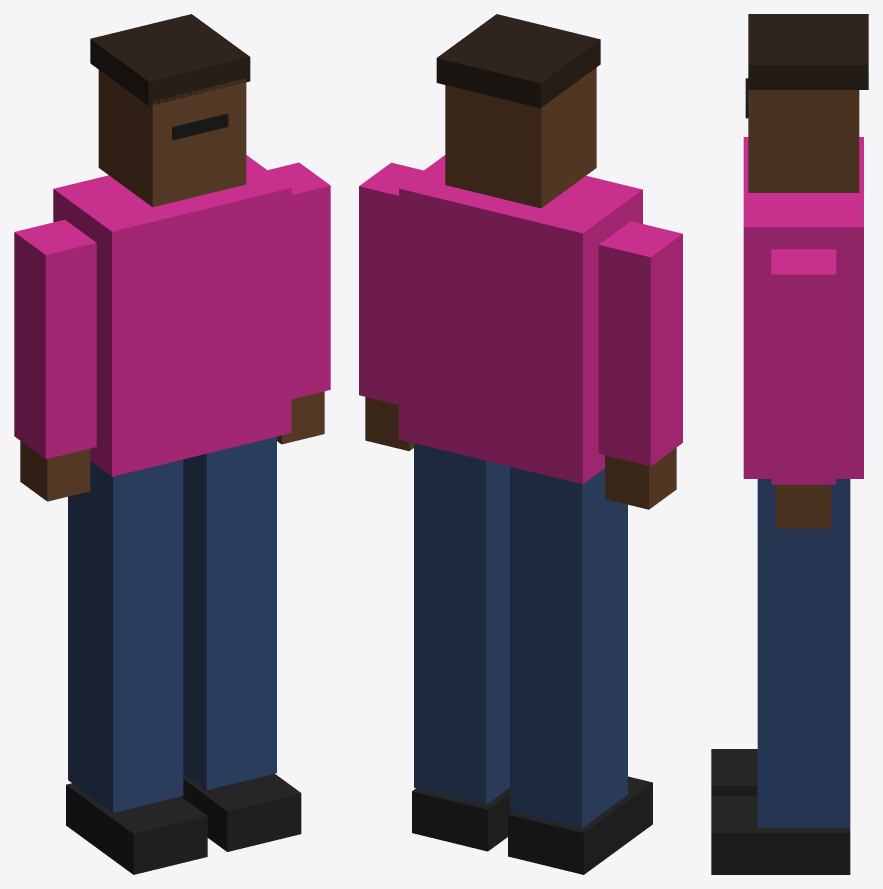
File: player_2.glb
3 renders of one model, left to right at view 1: azimuth 30°, elevation 25°; view 2: azimuth 150°, elevation 25°; view 3: azimuth 270°, elevation 25°, orthographic. The views are drawn at different scales.
Visible parts, largest first — view 1: torso, leg_r, leg_l, head, arm_r, arm_l; view 2: torso, leg_r, leg_l, head, arm_r, arm_l; view 3: leg_l, head, torso, arm_l, leg_r.
Part boxes in pixels (left/top/right/bottom): torso: left=53, top=155, right=291, bottom=476; leg_r: left=66, top=459, right=207, bottom=874; leg_l: left=181, top=436, right=301, bottom=851; head: left=90, top=14, right=250, bottom=207; arm_r: left=14, top=219, right=96, bottom=501; arm_l: left=267, top=162, right=330, bottom=444; torso: left=399, top=155, right=642, bottom=484; leg_r: left=508, top=466, right=652, bottom=874; leg_l: left=412, top=443, right=511, bottom=851; head: left=436, top=14, right=600, bottom=208; arm_r: left=598, top=221, right=682, bottom=509; arm_l: left=359, top=162, right=423, bottom=450; leg_l: left=711, top=479, right=850, bottom=874; head: left=745, top=14, right=868, bottom=192; torso: left=743, top=137, right=863, bottom=478; arm_l: left=771, top=249, right=836, bottom=528; leg_r: left=711, top=749, right=757, bottom=795.
Size of the model in its own units: 0.73 by 1.89 by 0.34.
